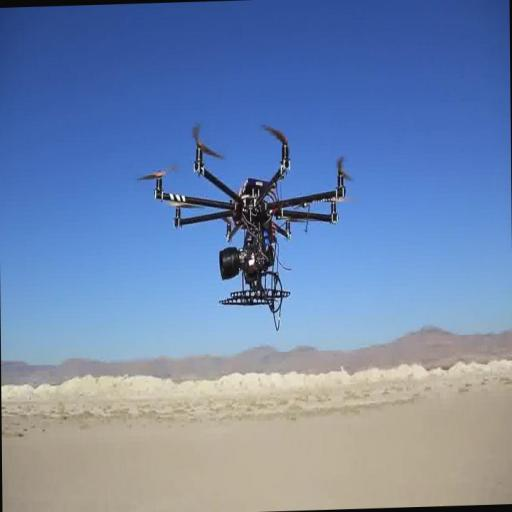drone: (138, 121, 357, 306)
